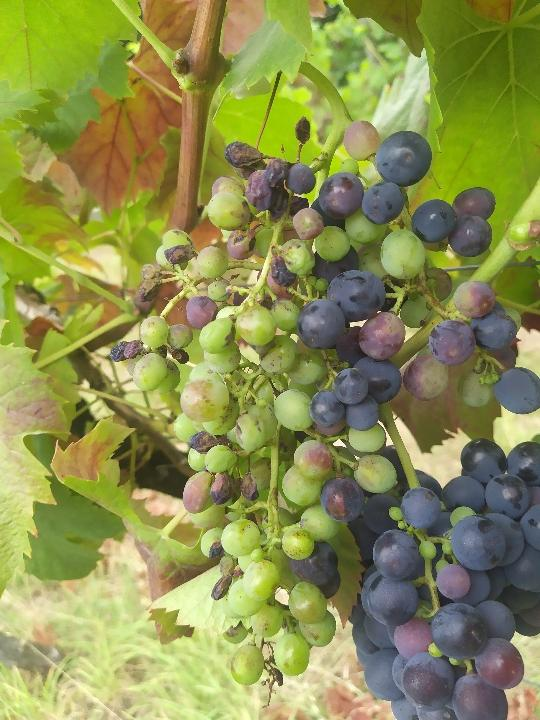grape: (111, 117, 535, 694)
